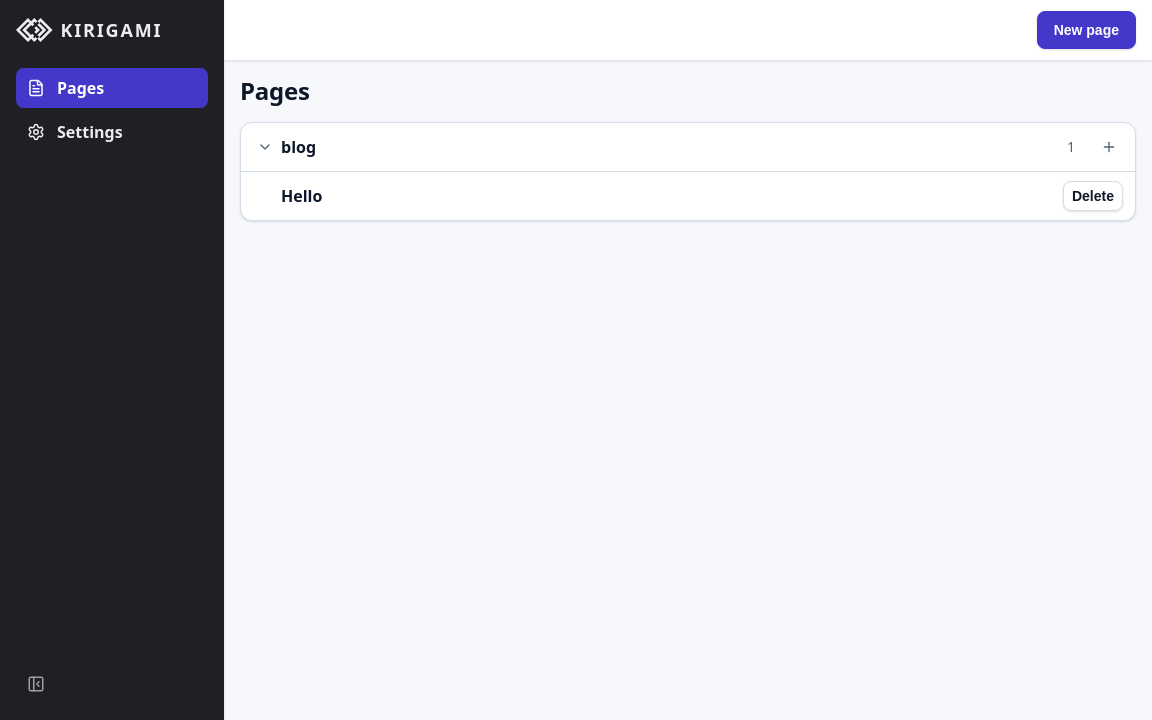
it: App › has the way to Settings on the Pages screen only, in the banner
Click the link "Hello" at coordinates (302, 196), box [281,185,322,207]
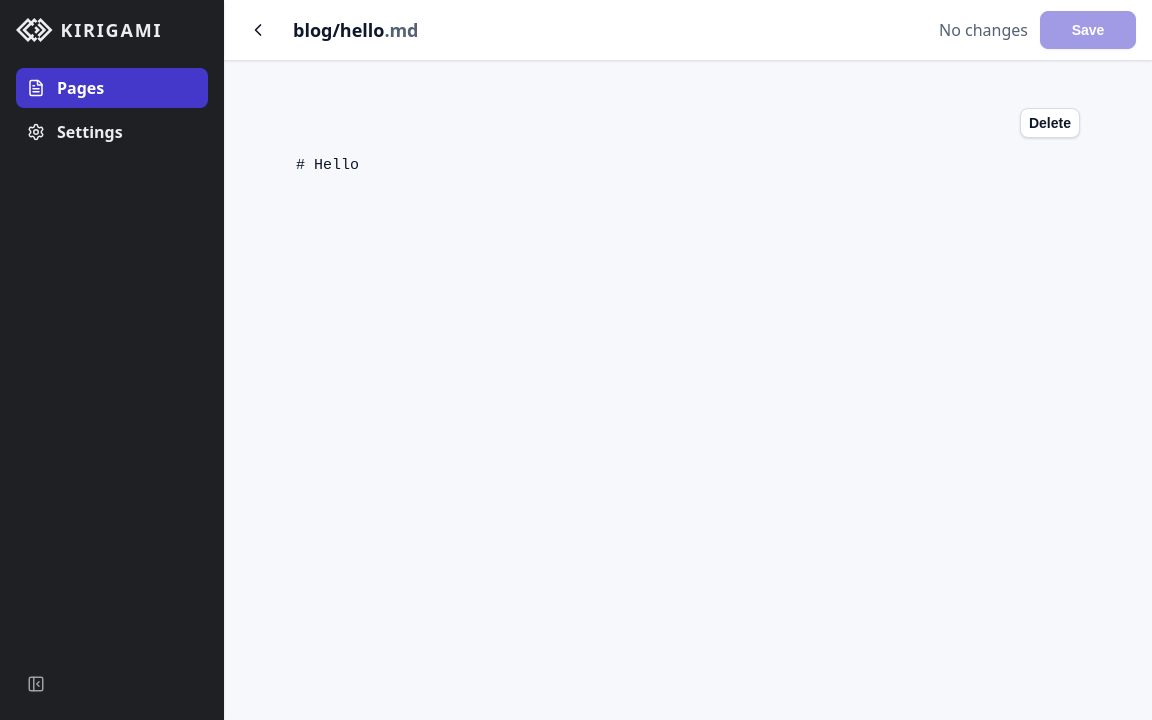
Now the text box named "Markdown" is shown, box [296,154,1080,586]
